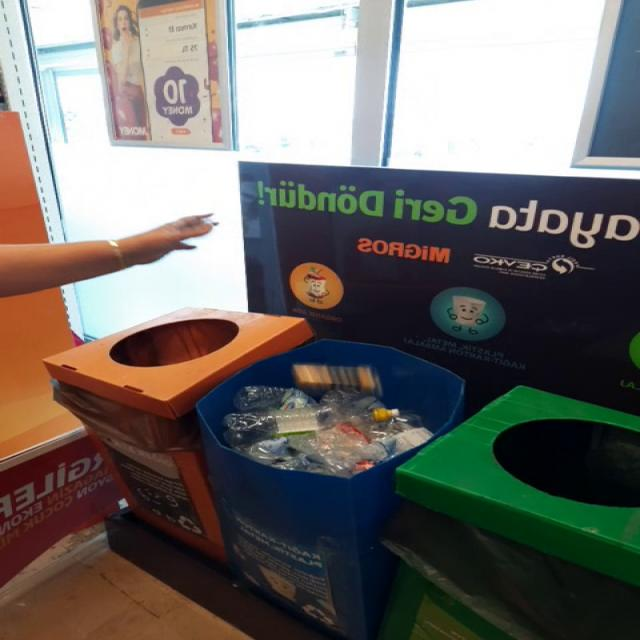metal: (292, 364, 383, 398)
